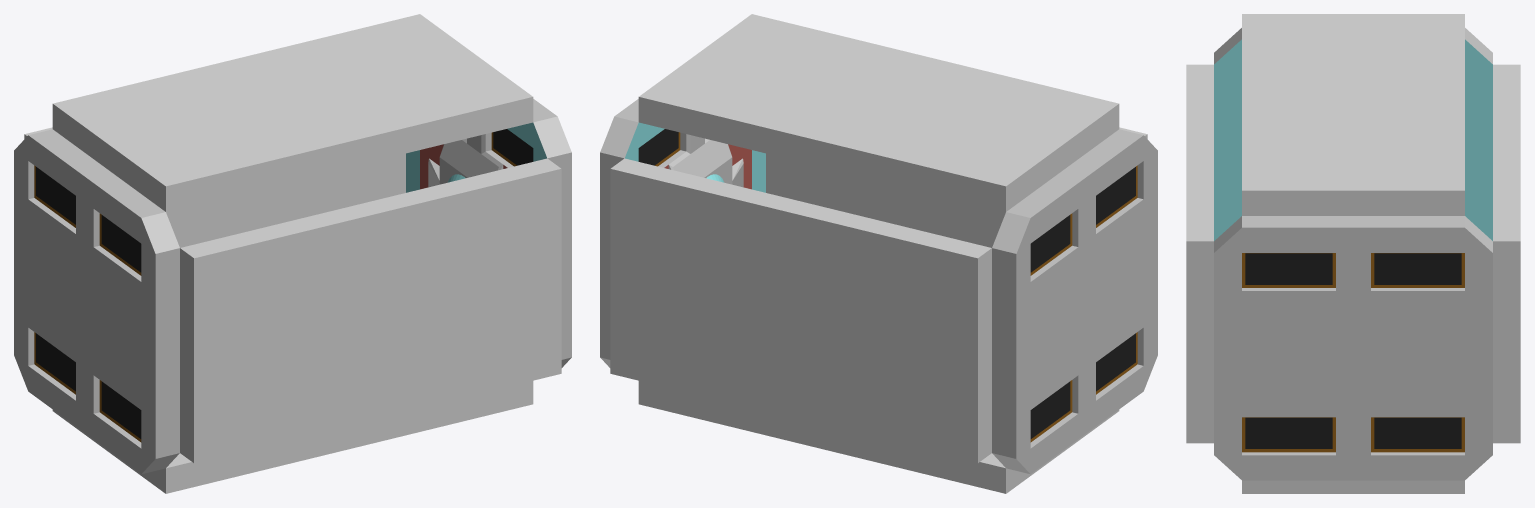
The model's file is Map15.fbx.
3 views of the same model, side by side, from view 1: azimuth 30°, elevation 25°; view 2: azimuth 150°, elevation 25°; view 3: azimuth 270°, elevation 25° (orthographic).
Visible parts, largest first — view 1: SideWall, Top_part106, Front_part001, Bottom_part001, Top_part118, Top_part120, Top_part116, Top_part112, Front_part016, Front_part076, Front_part106, Top_part114 (+155 smaller); view 2: SideWall, Top_part001, Back_part106, Bottom_part106, Top_part013, Top_part015, Top_part011, Top_part007, Back_part001, Back_part091, Back_part031, Top_part009 (+155 smaller); view 3: SideWall, Top_part045, Top_part060, Top_part075, Top_part090, Front_part015, Back_part120, Top_part015, Top_part030, Top_part105, Top_part120, Front_part030 (+45 smaller).
Part boxes in pixels (x1,y1,x2,y2): SideWall: [14, 99, 571, 474]; Top_part106: [151, 170, 190, 211]; Front_part001: [180, 242, 218, 283]; Bottom_part001: [151, 454, 190, 493]; Top_part118: [446, 98, 484, 140]; Top_part120: [495, 86, 533, 128]; Top_part116: [397, 110, 435, 151]; Top_part112: [299, 134, 337, 175]; Front_part016: [180, 274, 218, 309]; Front_part076: [180, 376, 218, 411]; Front_part106: [180, 427, 218, 463]; Top_part114: [348, 122, 386, 163]; SideWall: [600, 99, 1157, 474]; Top_part001: [981, 170, 1020, 211]; Back_part106: [953, 242, 991, 283]; Bottom_part106: [981, 454, 1020, 493]; Top_part013: [687, 98, 725, 140]; Top_part015: [638, 86, 676, 128]; Top_part011: [736, 110, 774, 151]; Top_part007: [834, 134, 872, 175]; Back_part001: [953, 427, 991, 463]; Back_part091: [953, 274, 991, 309]; Back_part031: [953, 376, 991, 411]; Top_part009: [785, 122, 823, 163]; SideWall: [1214, 28, 1492, 480]; Top_part045: [1381, 179, 1409, 215]; Top_part060: [1353, 179, 1381, 215]; Top_part075: [1325, 179, 1353, 215]; Top_part090: [1297, 179, 1325, 215]; Front_part015: [1186, 229, 1213, 266]; Back_part120: [1493, 229, 1520, 266]; Top_part015: [1437, 179, 1464, 215]; Top_part030: [1409, 179, 1436, 215]; Top_part105: [1270, 179, 1297, 215]; Top_part120: [1242, 179, 1269, 215]; Front_part030: [1186, 266, 1213, 291].
Bounding box in the file's own units: 85 × 60 × 60.
